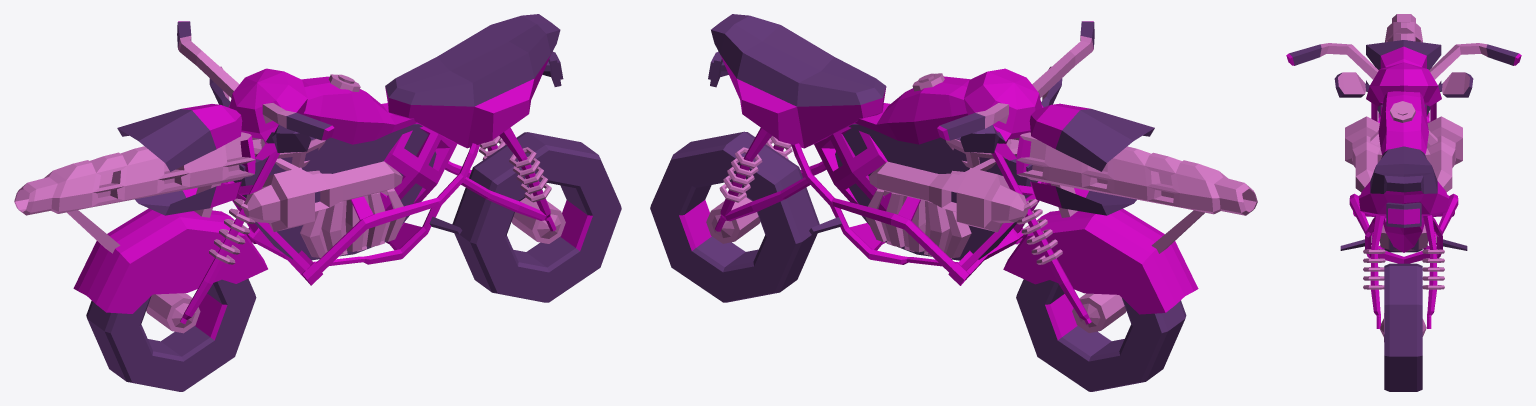
Rendered from lightCycle3 (1).fbx.
3 renders of one model, left to right at view 1: azimuth 30°, elevation 25°; view 2: azimuth 150°, elevation 25°; view 3: azimuth 270°, elevation 25°, orthographic. The views are drawn at different scales.
Parts seen in each view (by area): view 1: bike; view 2: bike; view 3: bike.
Part boxes in pixels (x1=…): bike: x1=14, y1=14, x2=621, y2=391; bike: x1=650, y1=14, x2=1257, y2=391; bike: x1=1286, y1=14, x2=1521, y2=391.
Size of the model in its own units: 1037 by 491 by 456.
